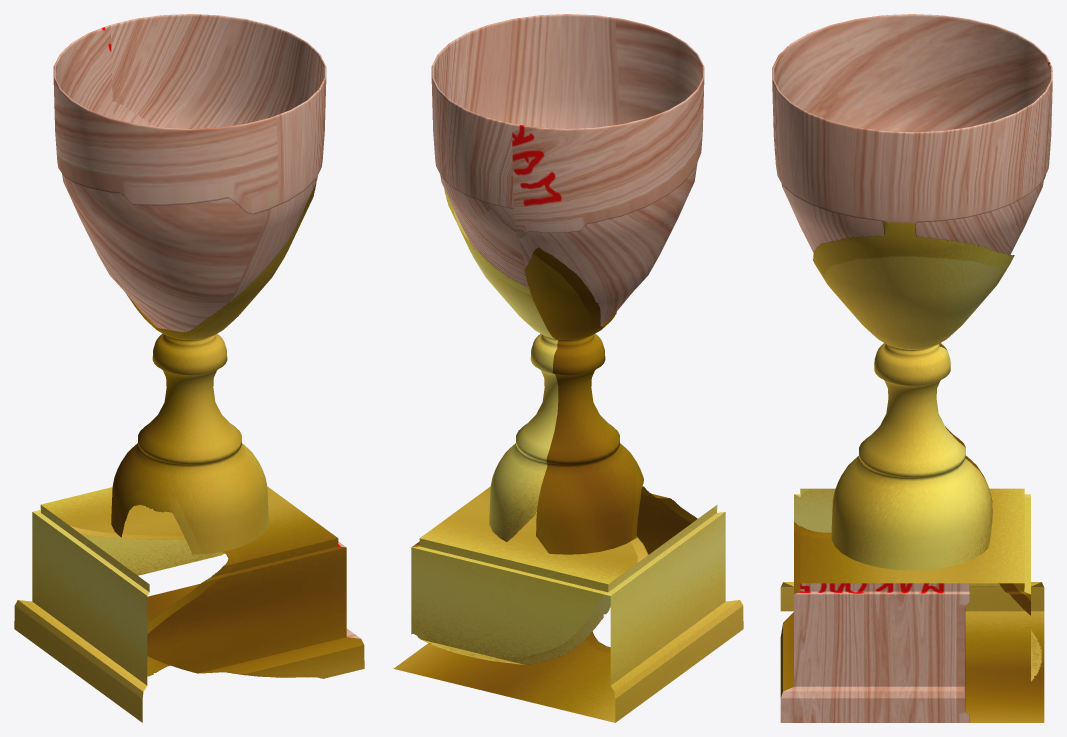
The model's file is pohar_baked.fbx.
3 renders of one model, left to right at view 1: azimuth 30°, elevation 25°; view 2: azimuth 150°, elevation 25°; view 3: azimuth 270°, elevation 25°, orthographic. The views are drawn at different scales.
Parts seen in each view (by area): view 1: Plane; view 2: Plane; view 3: Plane.
Boxes of the visible parts, x1,y1,x2,y2 form: Plane: (14, 14, 364, 722); Plane: (393, 14, 743, 722); Plane: (772, 14, 1052, 722).
Bounding box in the file's own units: 171 × 398 × 170.
1 material, 1 textured.
